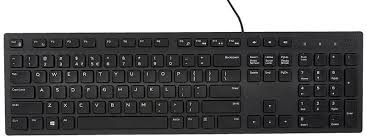keyboard: (2, 31, 364, 134)
